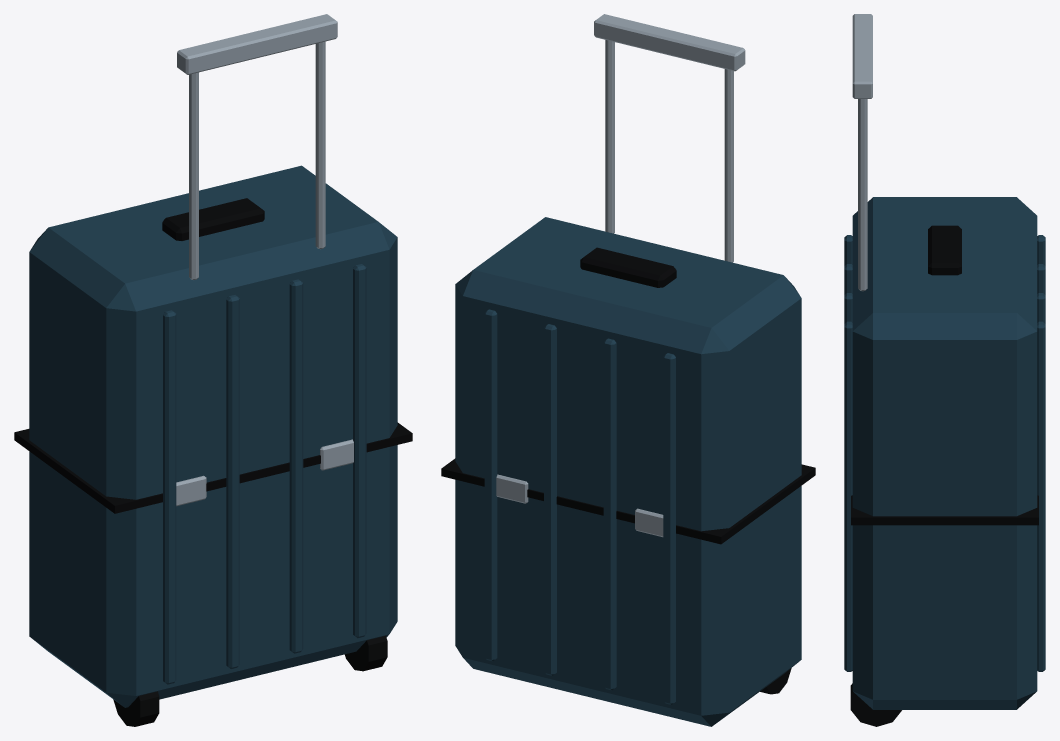
The model's file is ACCESSORY_04_Suitcase.obj.
The picture shows the model from 3 angles, left to right: view 1: azimuth 30°, elevation 25°; view 2: azimuth 150°, elevation 25°; view 3: azimuth 270°, elevation 25°; orthographic projection. The views are drawn at different scales.
Visible parts, largest first — view 1: ACCESSORY_04_Suitcase_Shell, ACCESSORY_04_Suitcase_Ribs, ACCESSORY_04_Suitcase_Handle_Extended, ACCESSORY_04_Suitcase_Seam, ACCESSORY_04_Suitcase_Carry_Handle, ACCESSORY_04_Suitcase_Wheels, ACCESSORY_04_Suitcase_Latches; view 2: ACCESSORY_04_Suitcase_Shell, ACCESSORY_04_Suitcase_Ribs, ACCESSORY_04_Suitcase_Handle_Extended, ACCESSORY_04_Suitcase_Seam, ACCESSORY_04_Suitcase_Carry_Handle, ACCESSORY_04_Suitcase_Latches; view 3: ACCESSORY_04_Suitcase_Shell, ACCESSORY_04_Suitcase_Ribs, ACCESSORY_04_Suitcase_Handle_Extended, ACCESSORY_04_Suitcase_Seam, ACCESSORY_04_Suitcase_Carry_Handle, ACCESSORY_04_Suitcase_Wheels.
Boxes of the visible parts, bbox=[...] form: ACCESSORY_04_Suitcase_Shell: bbox=[29, 165, 397, 707]; ACCESSORY_04_Suitcase_Ribs: bbox=[163, 264, 366, 684]; ACCESSORY_04_Suitcase_Handle_Extended: bbox=[177, 14, 337, 279]; ACCESSORY_04_Suitcase_Seam: bbox=[14, 422, 412, 513]; ACCESSORY_04_Suitcase_Carry_Handle: bbox=[162, 198, 264, 240]; ACCESSORY_04_Suitcase_Wheels: bbox=[113, 635, 387, 726]; ACCESSORY_04_Suitcase_Latches: bbox=[176, 439, 353, 506]; ACCESSORY_04_Suitcase_Shell: bbox=[455, 217, 801, 726]; ACCESSORY_04_Suitcase_Ribs: bbox=[484, 309, 675, 704]; ACCESSORY_04_Suitcase_Handle_Extended: bbox=[594, 14, 745, 262]; ACCESSORY_04_Suitcase_Seam: bbox=[441, 458, 815, 544]; ACCESSORY_04_Suitcase_Carry_Handle: bbox=[580, 247, 676, 287]; ACCESSORY_04_Suitcase_Latches: bbox=[496, 474, 663, 537]; ACCESSORY_04_Suitcase_Shell: bbox=[852, 197, 1037, 709]; ACCESSORY_04_Suitcase_Ribs: bbox=[844, 235, 1045, 671]; ACCESSORY_04_Suitcase_Handle_Extended: bbox=[852, 14, 872, 291]; ACCESSORY_04_Suitcase_Seam: bbox=[851, 495, 1038, 525]; ACCESSORY_04_Suitcase_Carry_Handle: bbox=[928, 225, 961, 275]; ACCESSORY_04_Suitcase_Wheels: bbox=[850, 683, 901, 726].
Size of the model in its own units: 0.47 by 1 by 0.294.
